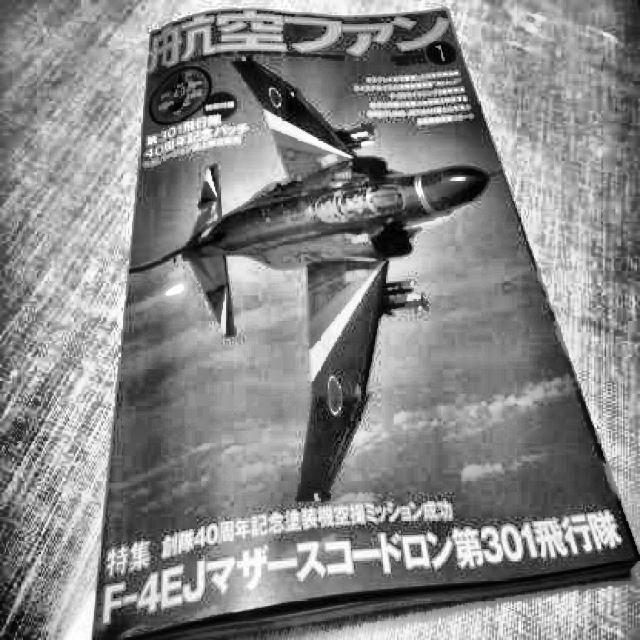F4: (128, 55, 503, 502)
